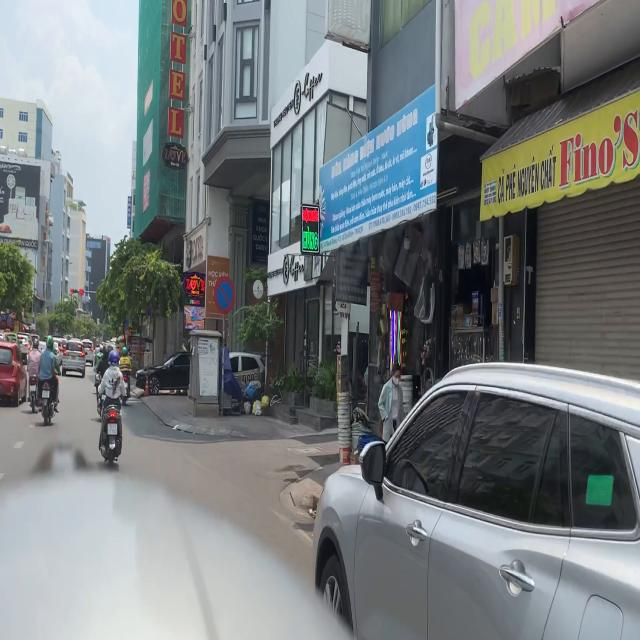Cam do: (213, 276, 235, 316)
